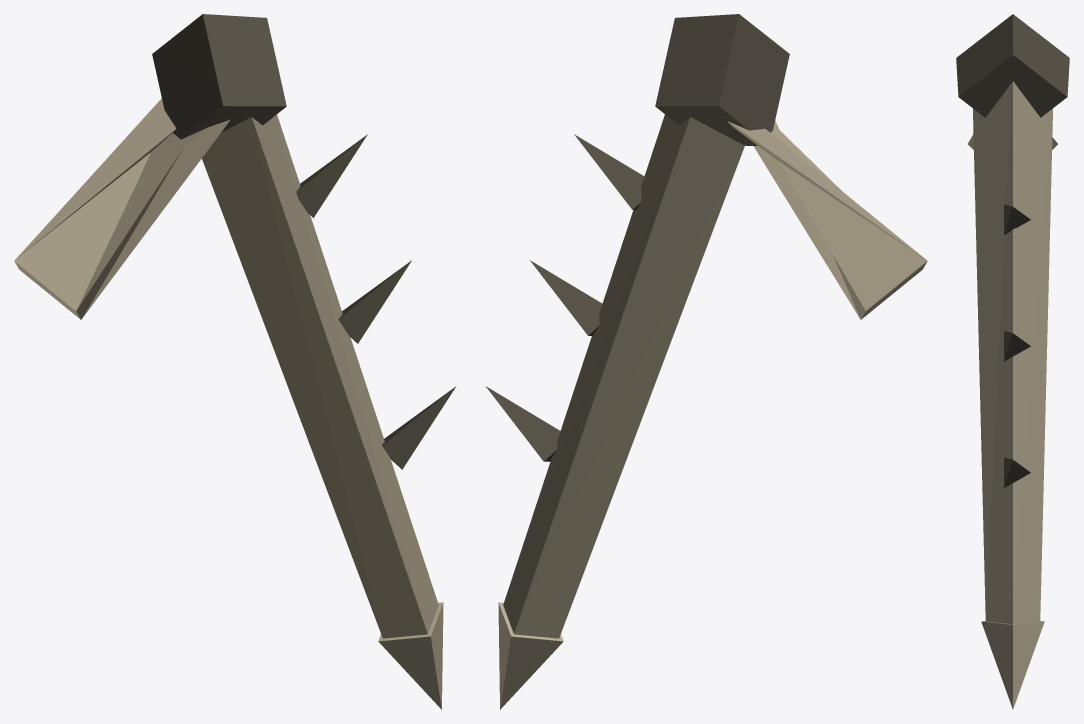
Rendered from animal_megaspider_leg_bones.obj.
The picture shows the model from 3 angles, left to right: view 1: azimuth 30°, elevation 25°; view 2: azimuth 150°, elevation 25°; view 3: azimuth 270°, elevation 25°; orthographic projection. The views are drawn at different scales.
Bounding box in the file's own units: 0.3593 × 0.5851 × 0.1.
